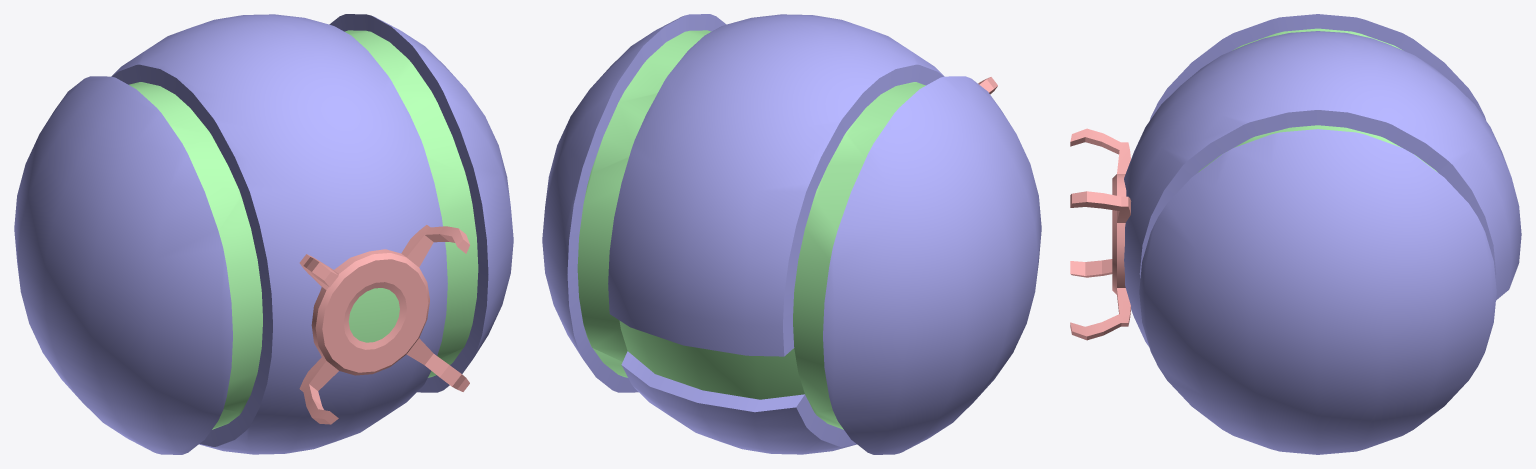
The model's file is terminalBot.fbx.
3 views of the same model, side by side, from view 1: azimuth 30°, elevation 25°; view 2: azimuth 150°, elevation 25°; view 3: azimuth 270°, elevation 25° (orthographic). The views are drawn at different scales.
Visible parts, largest first — view 1: polymsh; view 2: polymsh; view 3: polymsh.
Part boxes in pixels (box(x1,y1,x2,y2)): polymsh: box(14, 14, 513, 454); polymsh: box(542, 14, 1041, 454); polymsh: box(1070, 14, 1521, 454).
Size of the model in its own units: 23.03 by 20 by 22.16.
